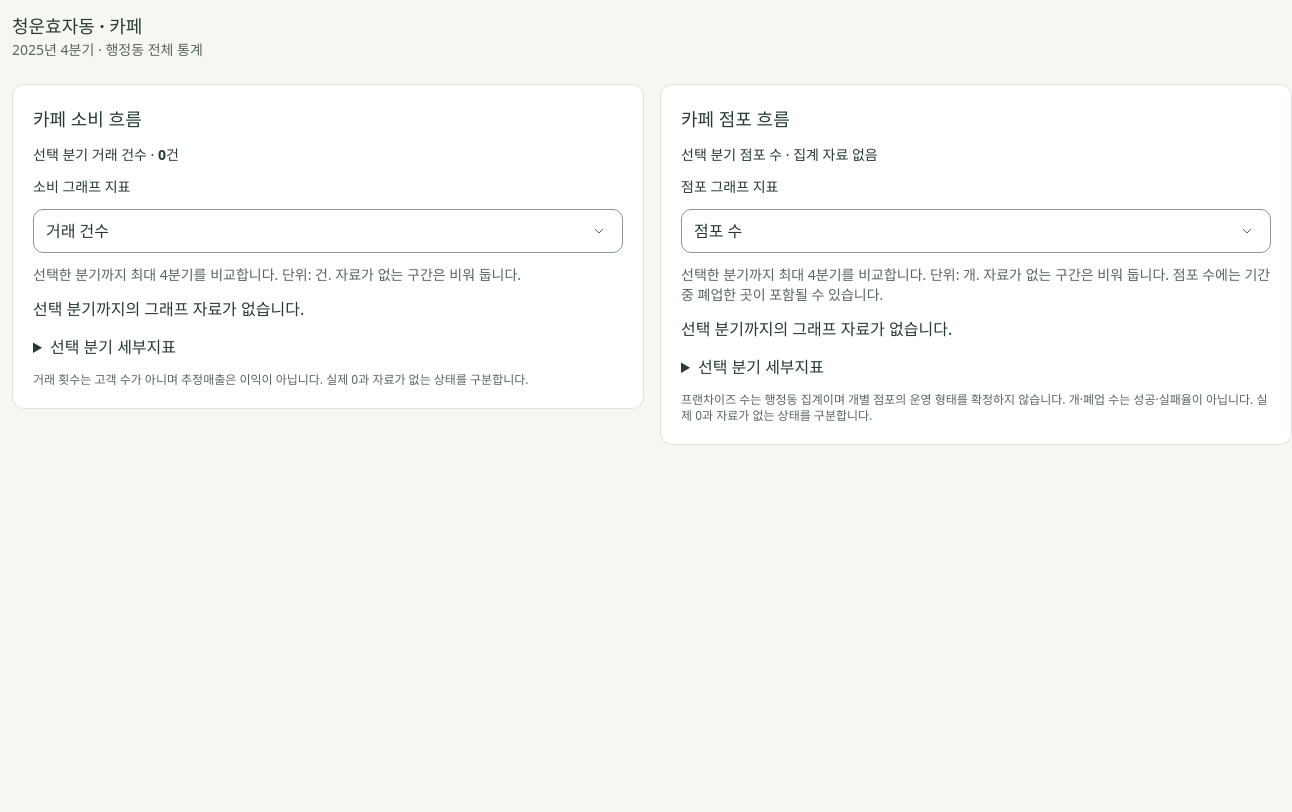
Test: shows usable current statistics without a trend and distinguishes absent sections, null and zero
Expected: the text "선택 분기 거래 건수 · 0건" is shown, [33, 145, 179, 164]
Click the heading "선택 분기 세부지표" below "거래 건수" at x=113, y=347, box [50, 336, 176, 358]
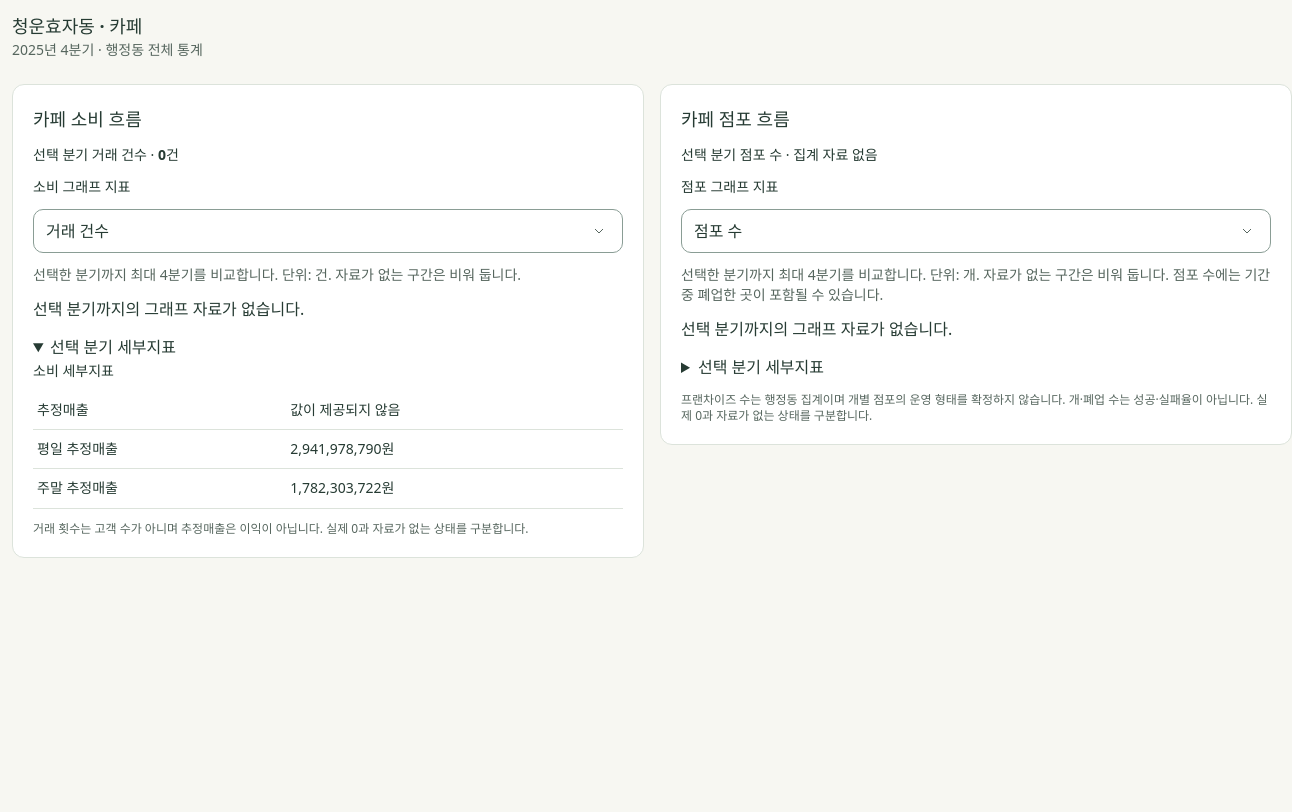
Expected: the text "선택 분기 점포 수 · 집계 자료 없음" is shown, [681, 145, 878, 164]
Result: the table shows "값이 제공되지 않음" at [290, 400, 400, 419]
